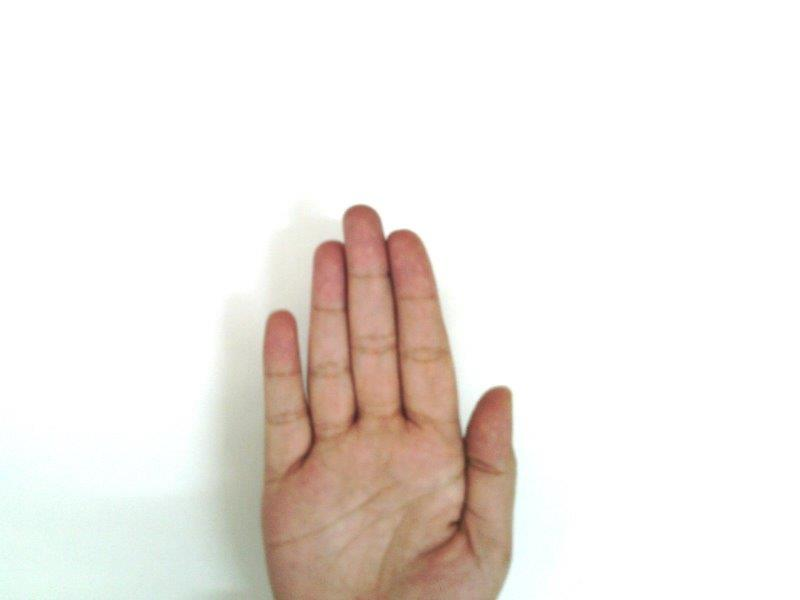hand: (264, 205, 517, 599)
